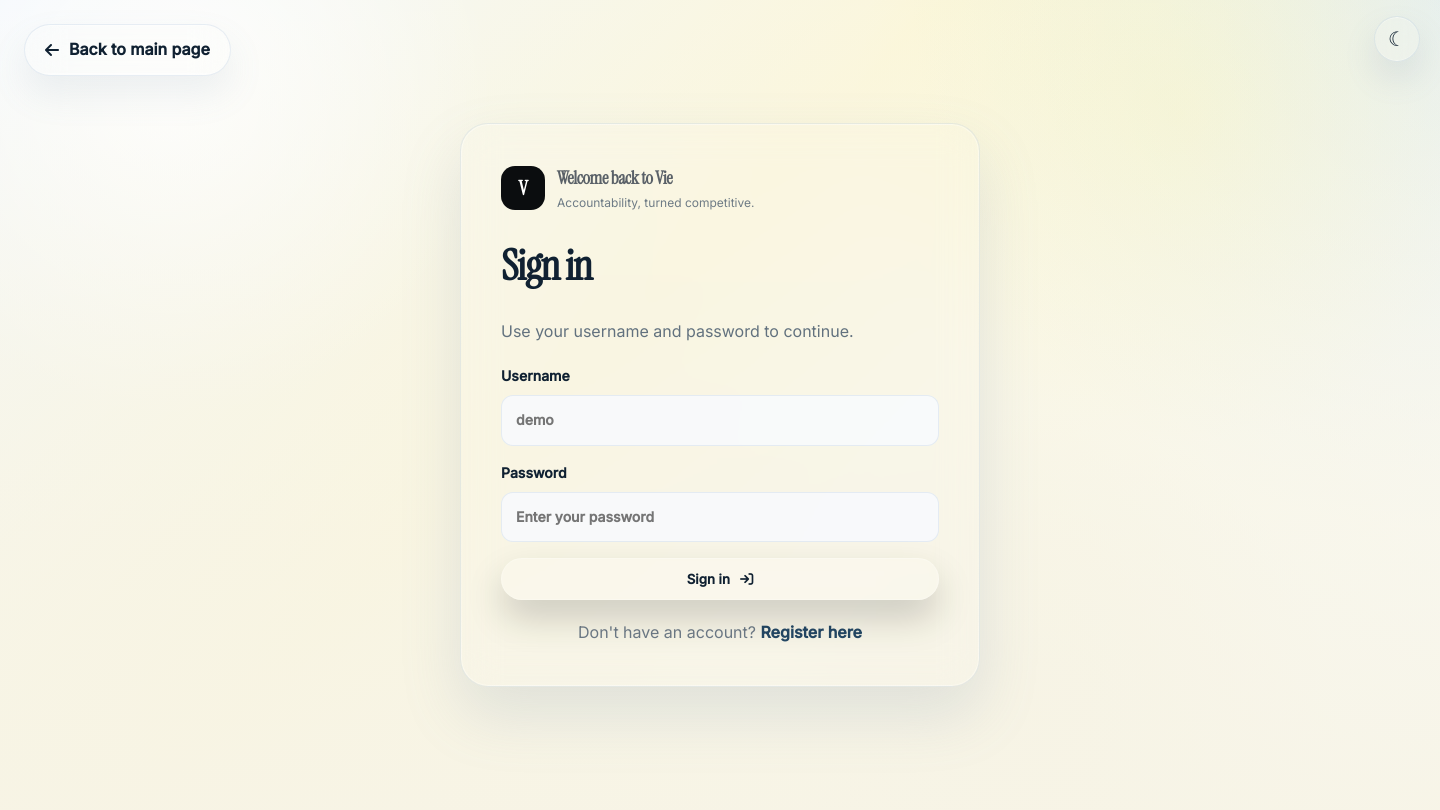
Scenario: Login page › shows an error message on failed login
Type "wrong" into the field with placeholder "demo". click: (720, 420)
box: [501,395,939,446]
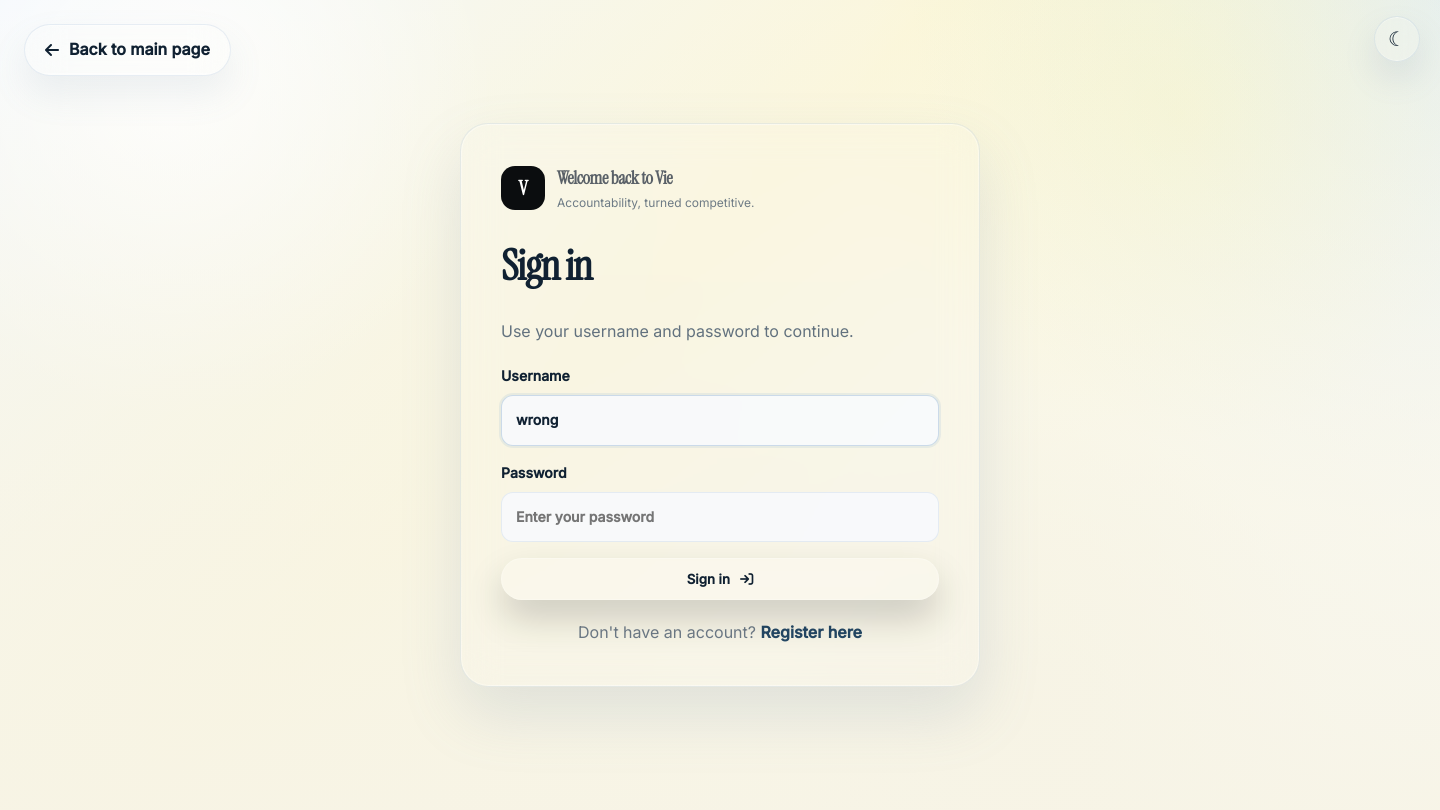
Type "wrong" into the password field with placeholder "Enter your password". click: (720, 517)
box: [501,492,939,542]
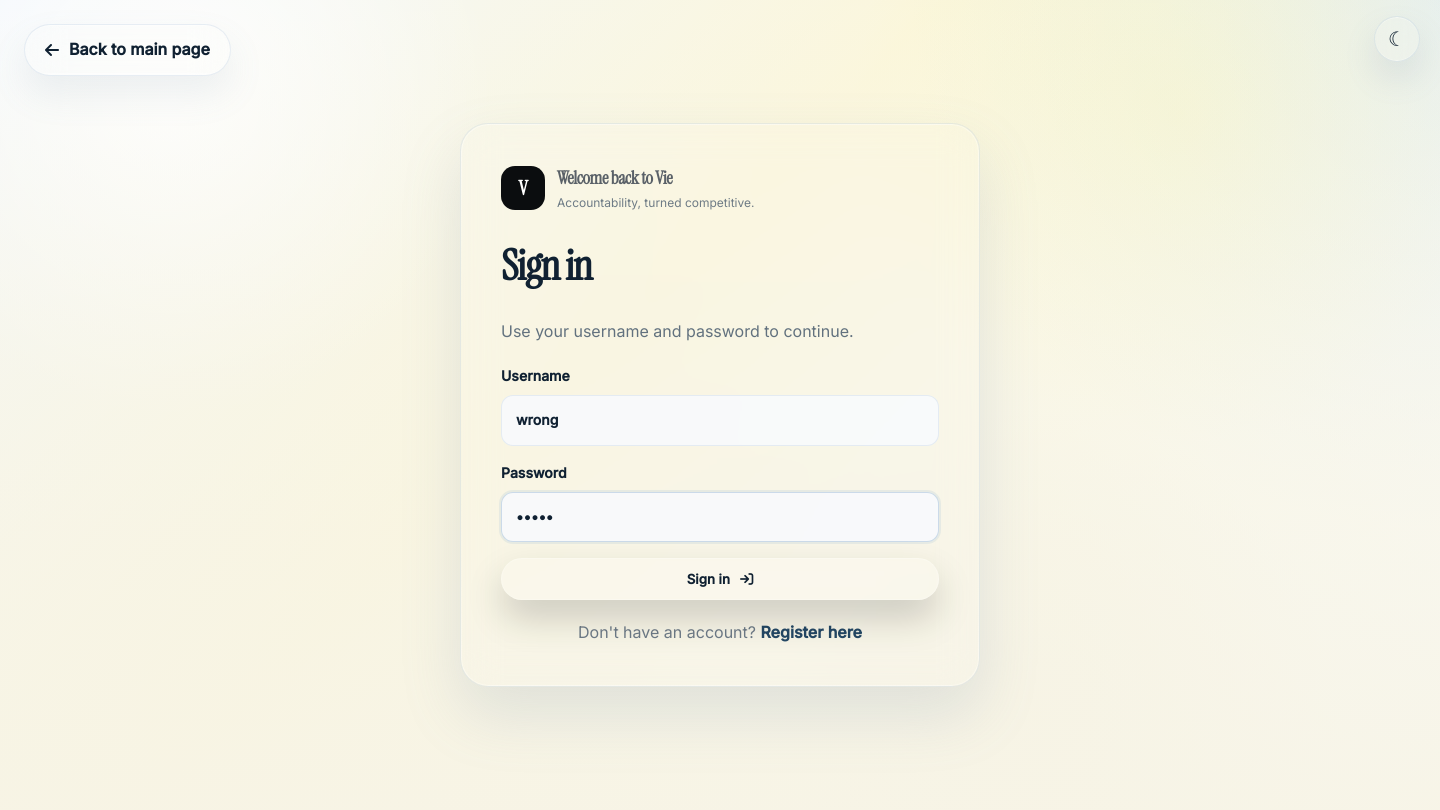
Click the button "Sign in". click: (720, 579)
box: [501,558,939,600]
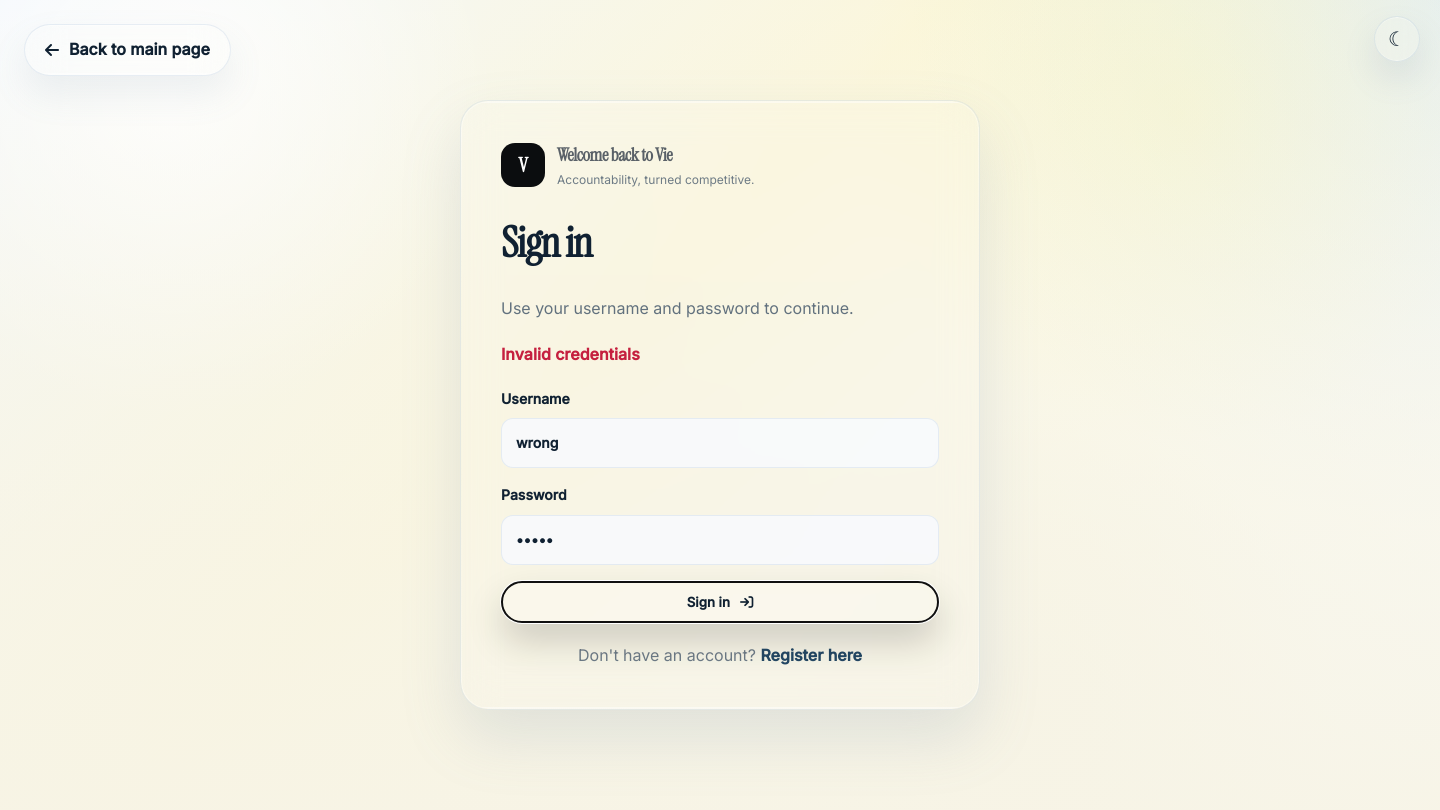
Now the text "Invalid credentials" is shown, box [501,344,640,364]
